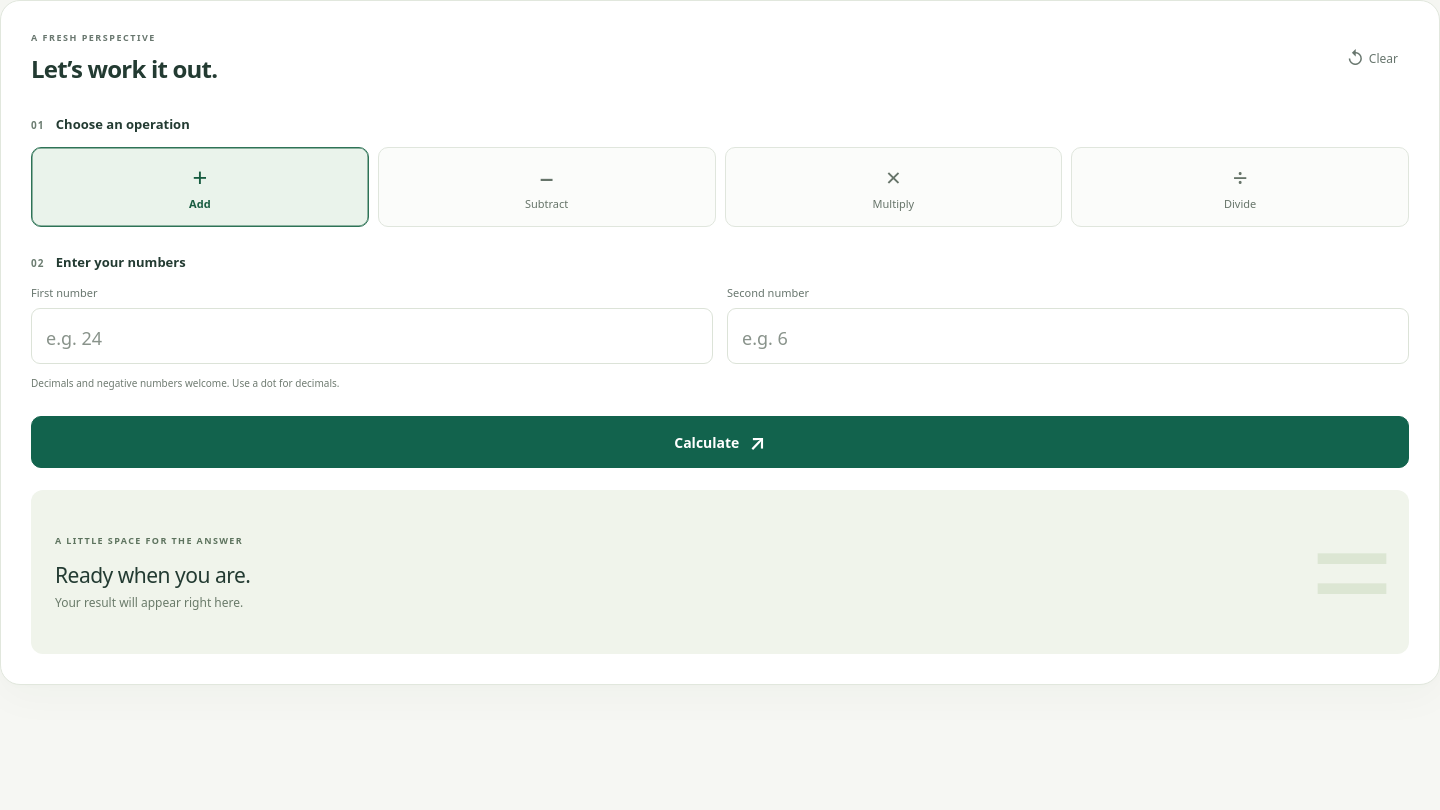
Scenario: calculator experience › sends the Add operation to the API and displays its result
The image size is (1440, 810).
Step 1. Type "10" into the field labelled "First number" → x=372, y=336, box [31,308,713,364]
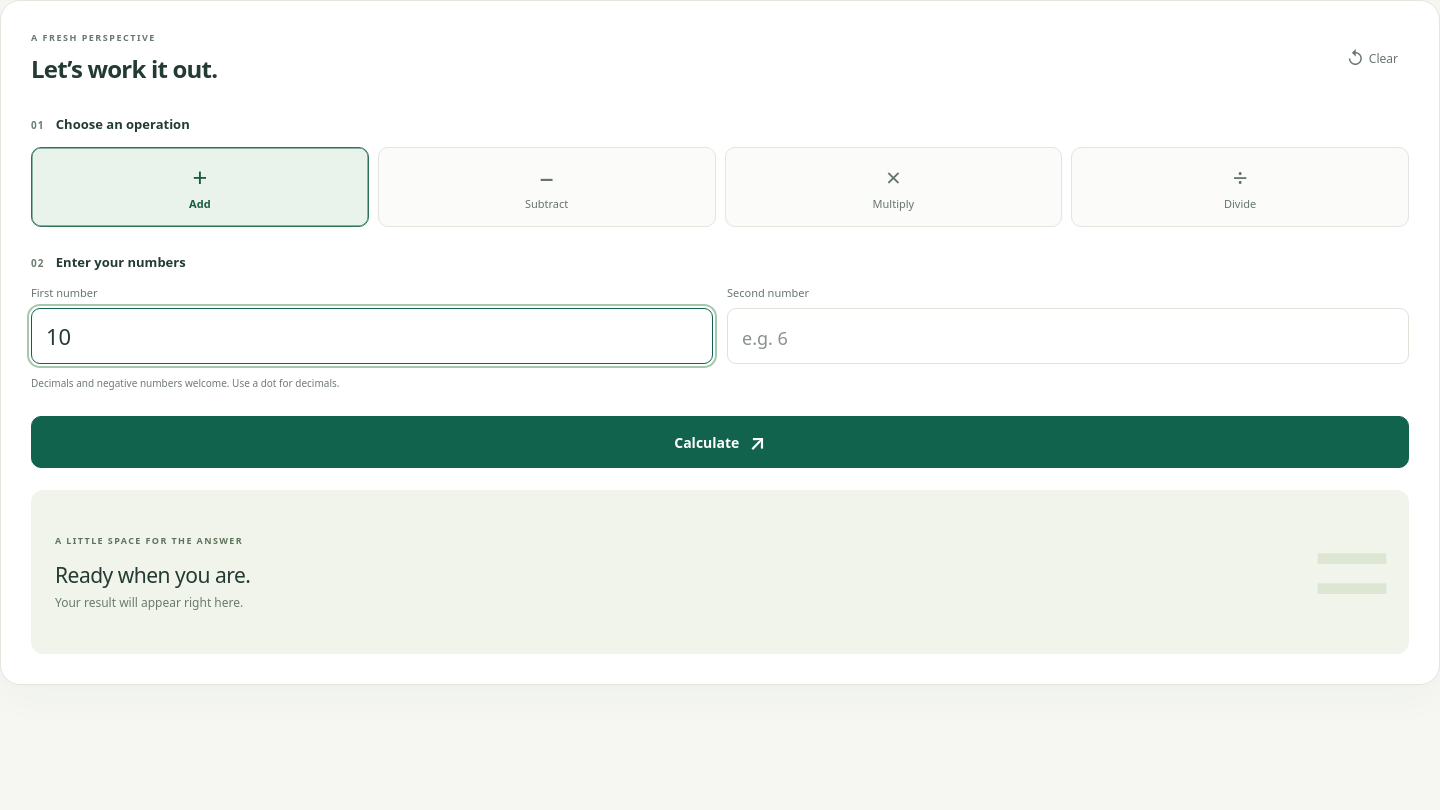
Step 2. Type "2" into the field labelled "Second number" → x=1068, y=336, box [727,308,1409,364]
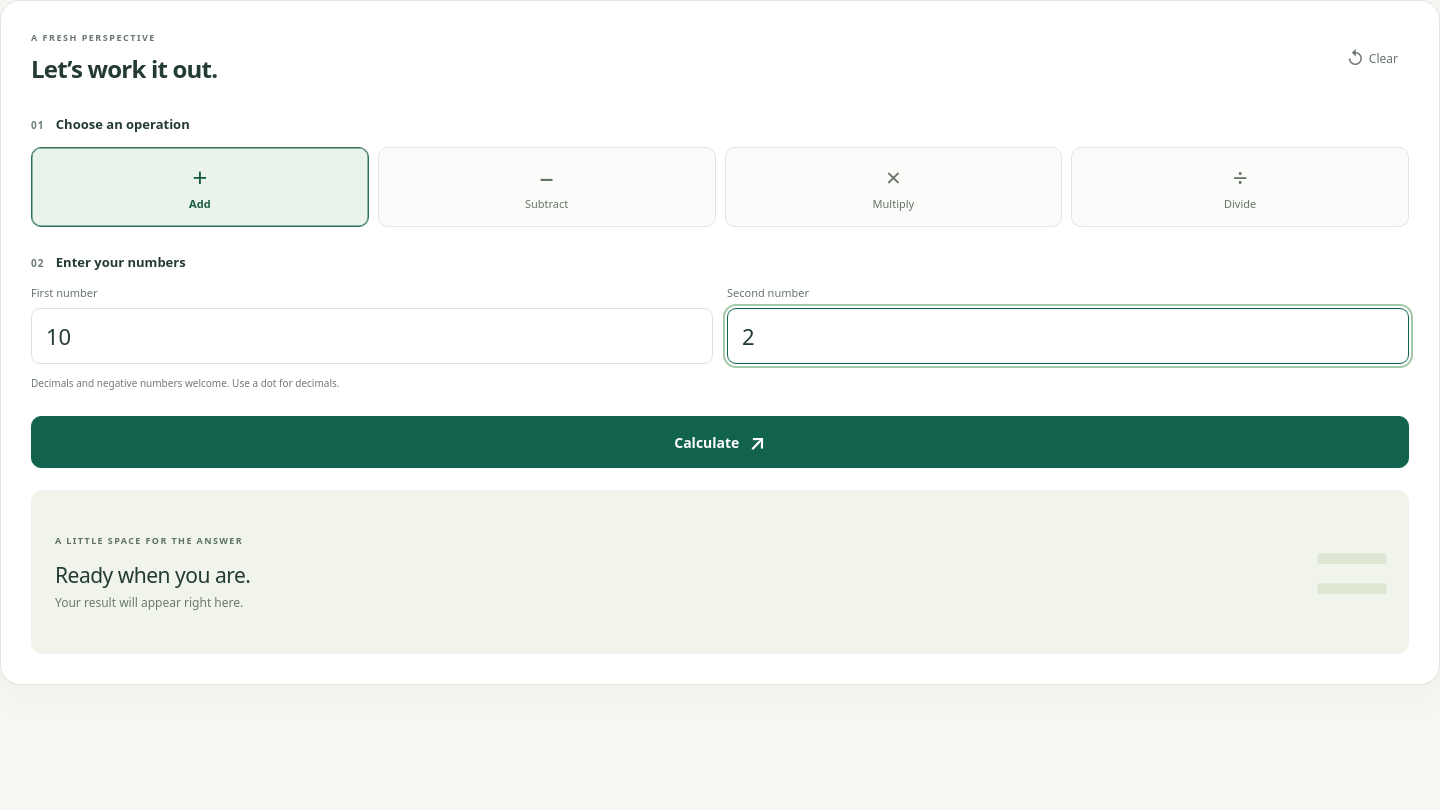
Step 3. Click the radio button labelled "Add" → x=200, y=187, box [31,147,369,227]
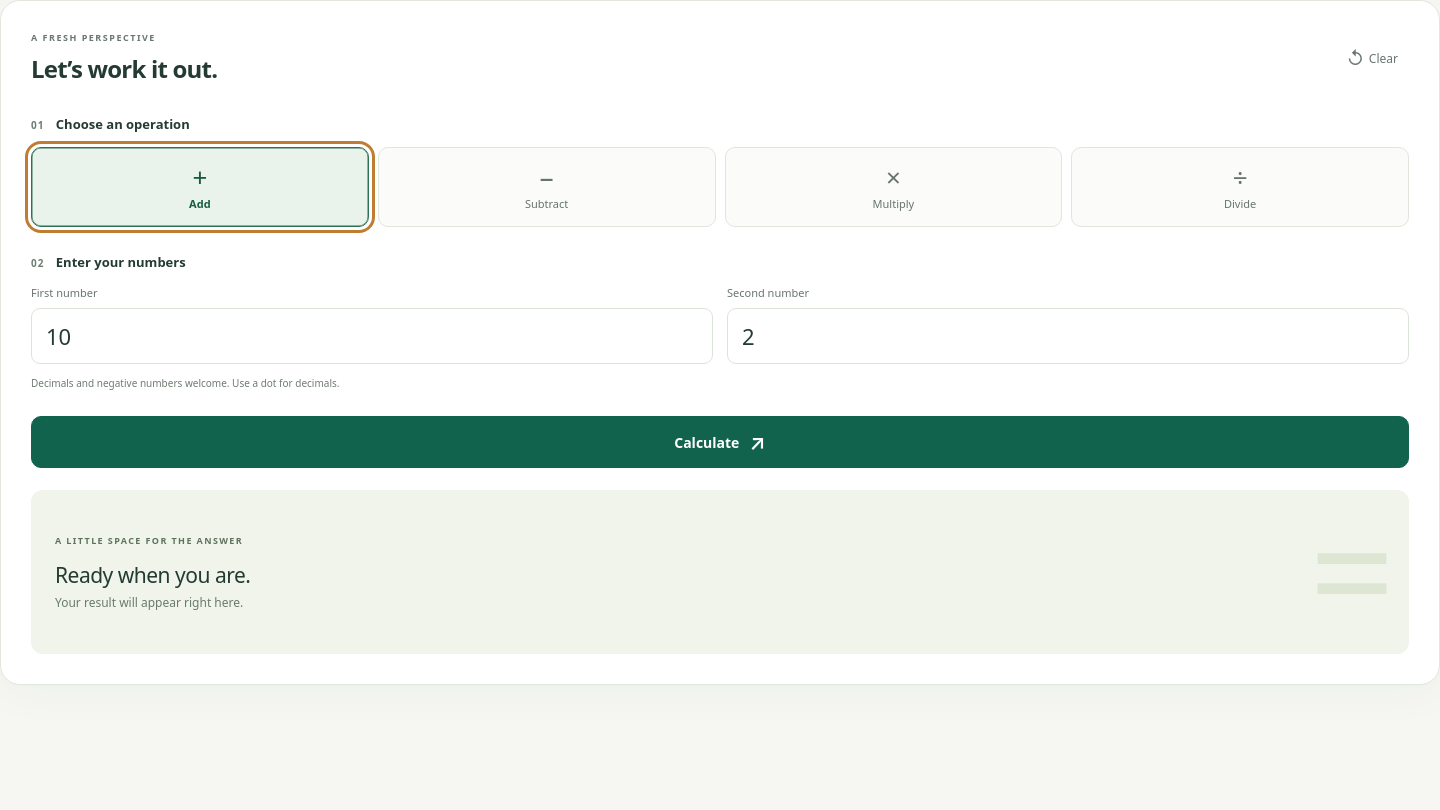
Step 4. Click the button "Calculate ↗" → x=720, y=442, box [31,416,1409,468]
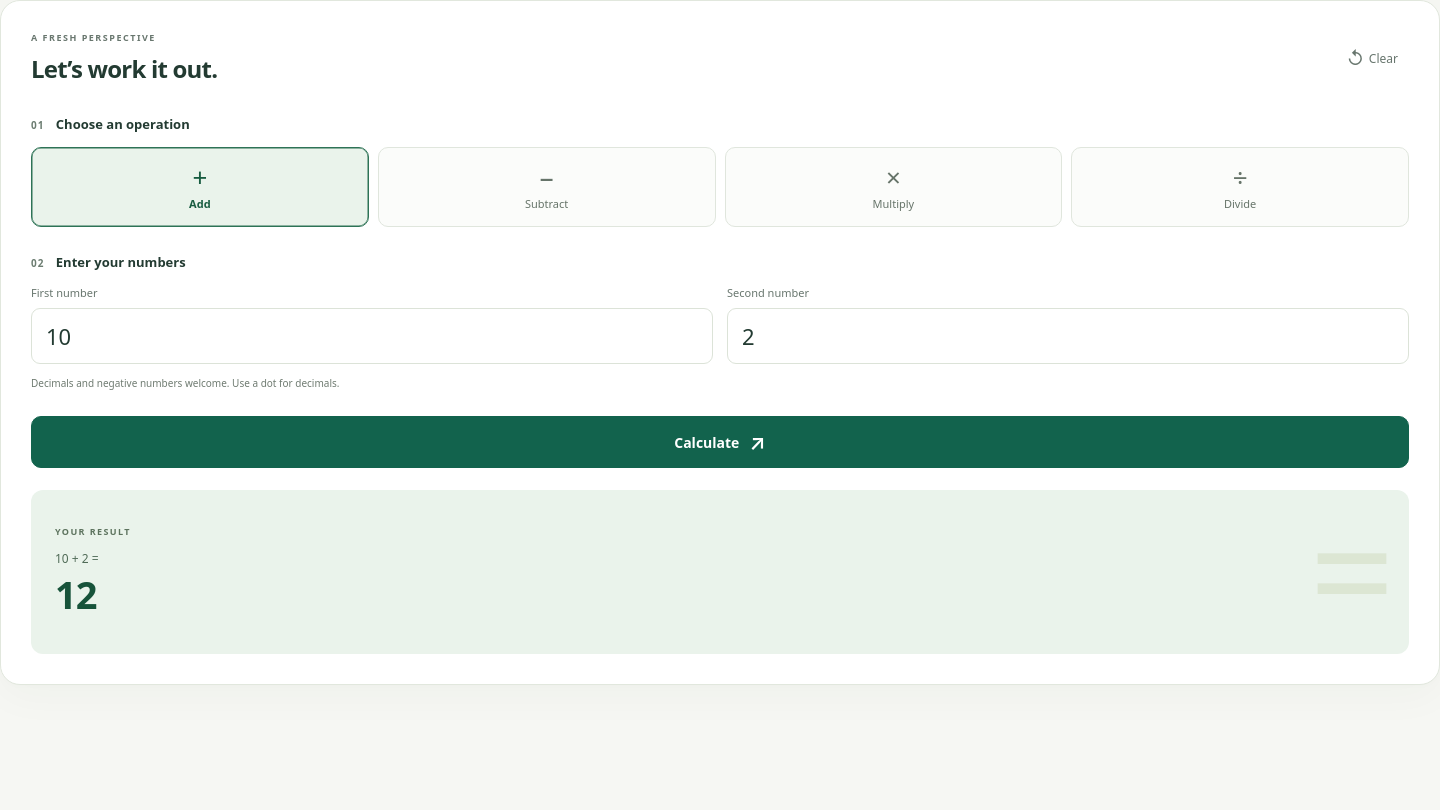
Result: the text "12" is shown at [55,568,96,620]
